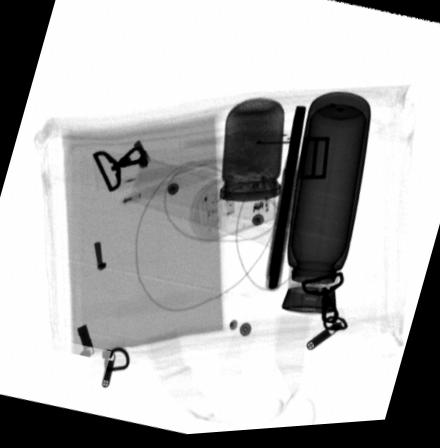Pliers: (263, 107, 307, 296)
